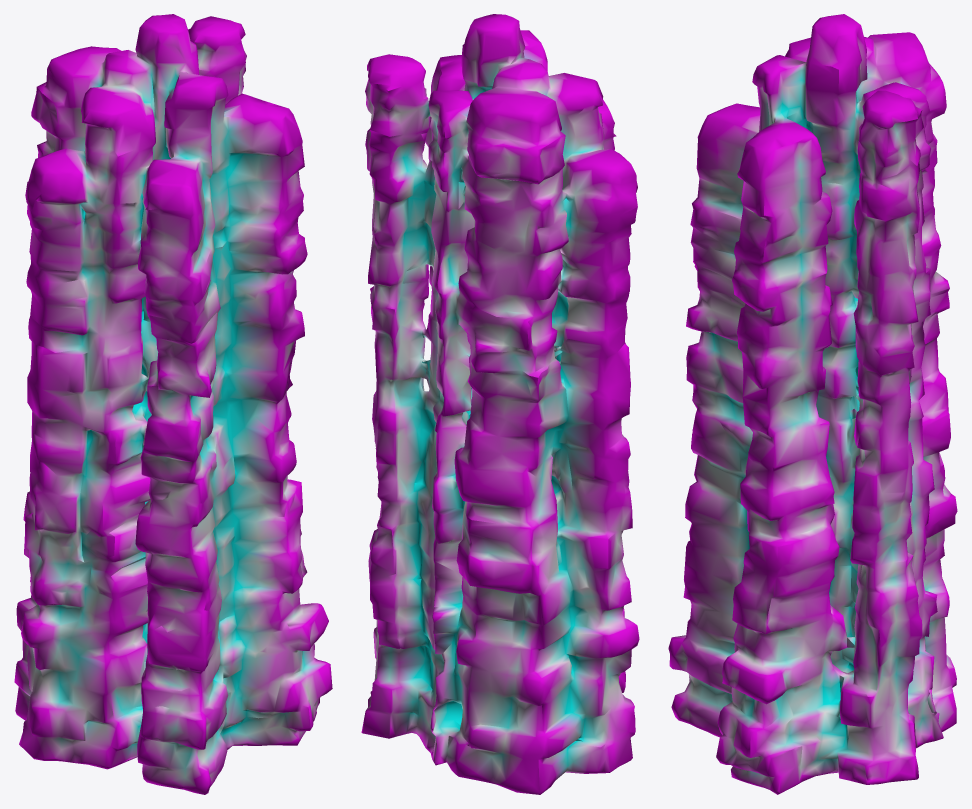
File: Macico_7_Longe.fbx
3 renders of one model, left to right at view 1: azimuth 30°, elevation 25°; view 2: azimuth 150°, elevation 25°; view 3: azimuth 270°, elevation 25°, orthographic.
Visible parts, largest first — view 1: Macico_7_Longe; view 2: Macico_7_Longe; view 3: Macico_7_Longe.
Boxes of the visible parts, box(x1,y1,x2,y2) form: Macico_7_Longe: box(14, 14, 332, 794); Macico_7_Longe: box(361, 14, 639, 794); Macico_7_Longe: box(668, 14, 957, 794).
Size of the model in its own units: 121 by 306 by 111.
